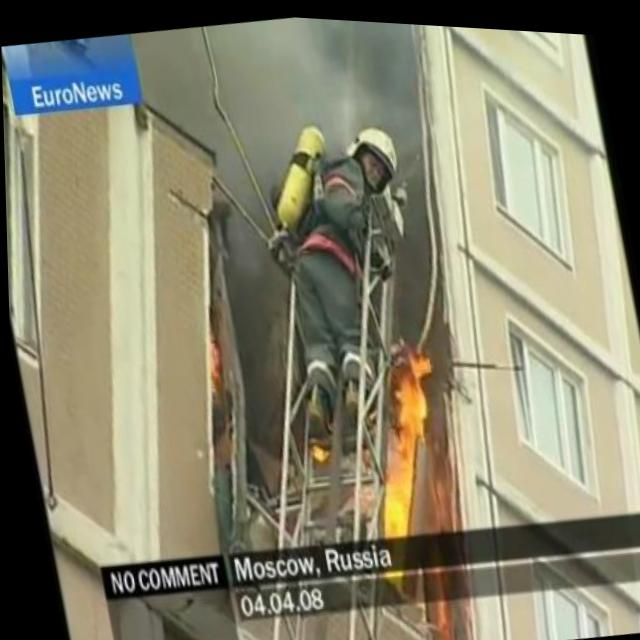fire: (348, 342, 466, 541), (200, 330, 231, 395), (305, 432, 329, 464)
